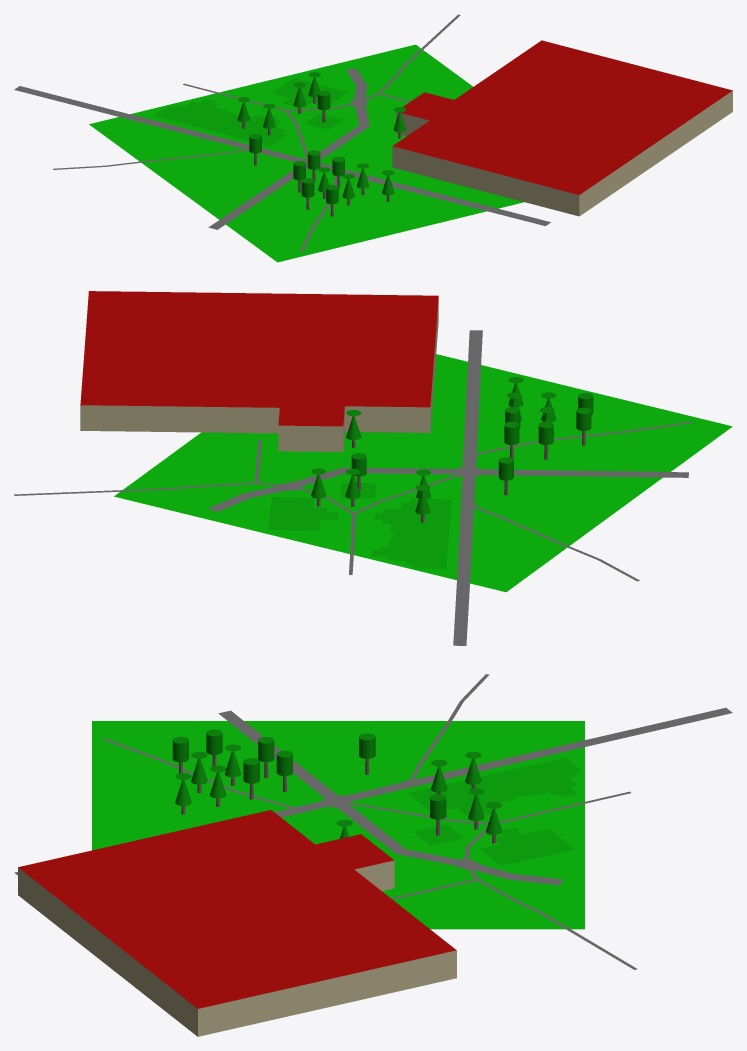
The model's file is student_union.dae.
The picture shows the model from 3 angles, top to bottom: view 1: azimuth 30°, elevation 25°; view 2: azimuth 150°, elevation 25°; view 3: azimuth 270°, elevation 25°; orthographic projection. The views are drawn at different scales.
Parts seen in each view (by area): view 1: Building_Life_Building, SurfaceArea40, Road_Student_Union_Boulevard, SurfaceArea_Student_Union_Plaza; view 2: SurfaceArea40, Building_Life_Building, Road_Student_Union_Boulevard, SurfaceArea_Student_Union_Plaza; view 3: Building_Life_Building, SurfaceArea40, SurfaceArea_Student_Union_Plaza, Road_Student_Union_Boulevard.
Boxes of the visible parts, <box> form: Building_Life_Building: <box>392,40,732,216</box>; SurfaceArea40: <box>89,44,524,262</box>; Road_Student_Union_Boulevard: <box>14,14,550,229</box>; SurfaceArea_Student_Union_Plaza: <box>154,78,348,146</box>; SurfaceArea40: <box>114,354,732,592</box>; Building_Life_Building: <box>80,291,438,451</box>; Road_Student_Union_Boulevard: <box>14,330,688,645</box>; SurfaceArea_Student_Union_Plaza: <box>268,483,451,568</box>; Building_Life_Building: <box>18,810,456,1036</box>; SurfaceArea40: <box>92,721,584,929</box>; SurfaceArea_Student_Union_Plaza: <box>407,757,581,865</box>; Road_Student_Union_Boulevard: <box>14,707,732,969</box>.
Size of the model in its own units: 209 by 175 by 10.
